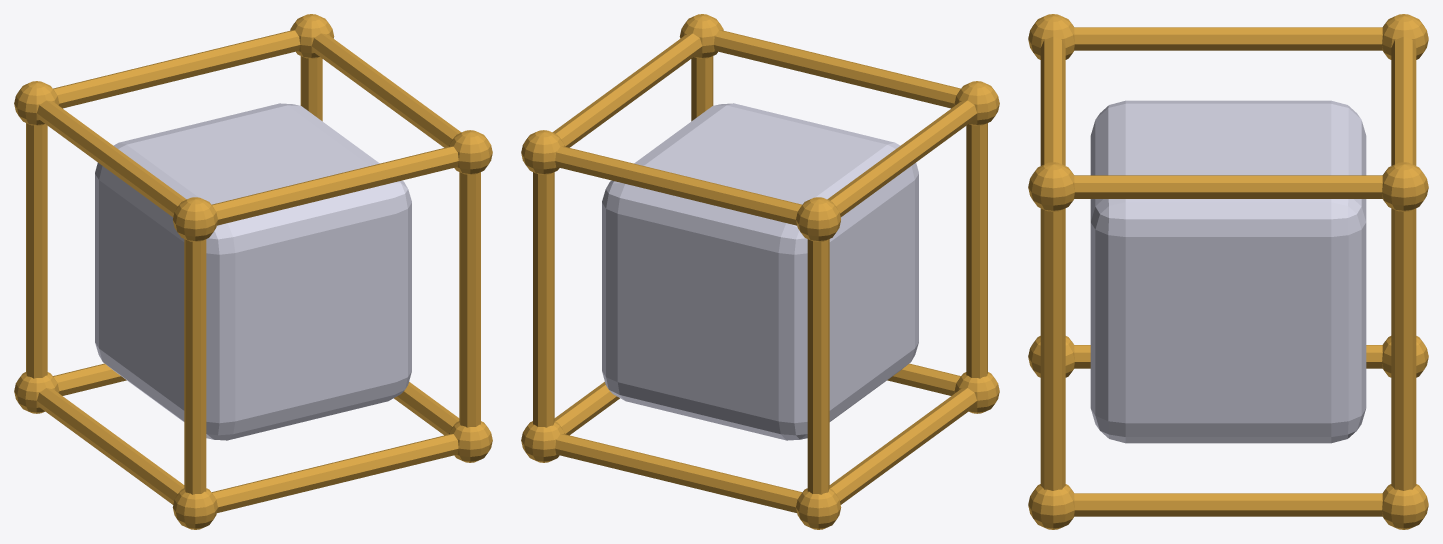
The model's file is cubo-nota-juego.glb.
3 renders of one model, left to right at view 1: azimuth 30°, elevation 25°; view 2: azimuth 150°, elevation 25°; view 3: azimuth 270°, elevation 25°, orthographic. The views are drawn at different scales.
Visible parts, largest first — view 1: Gema, Marco; view 2: Gema, Marco; view 3: Gema, Marco.
Boxes of the visible parts, x1,y1,x2,y2 form: Gema: [95, 103, 411, 440]; Marco: [14, 14, 492, 529]; Gema: [602, 103, 918, 440]; Marco: [521, 14, 999, 529]; Gema: [1090, 100, 1366, 443]; Marco: [1028, 14, 1428, 529].
Size of the model in its own units: 1.6 by 1.6 by 1.6.
